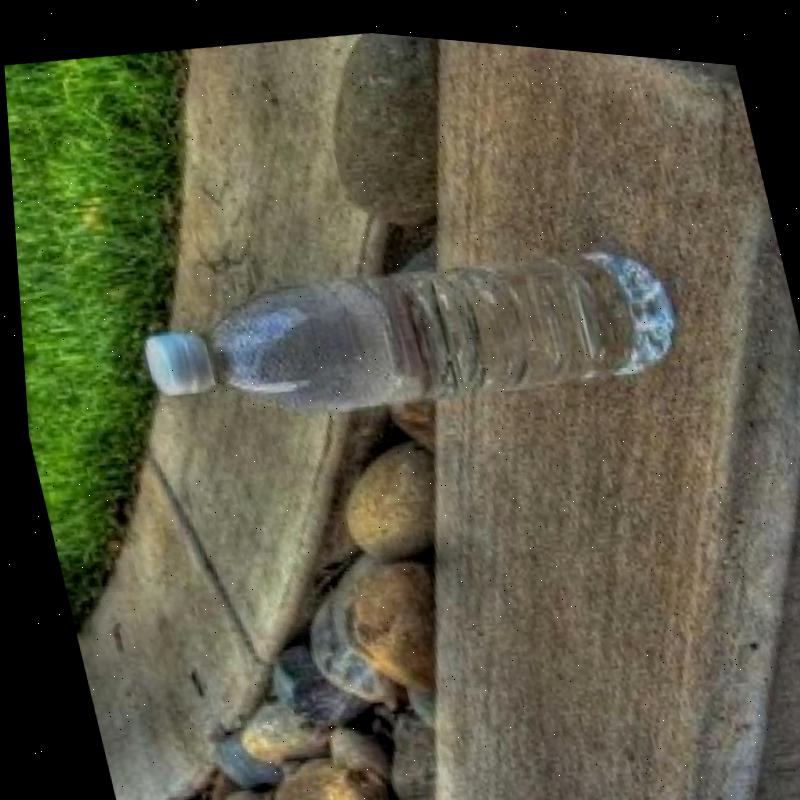botella: (119, 195, 690, 461)
